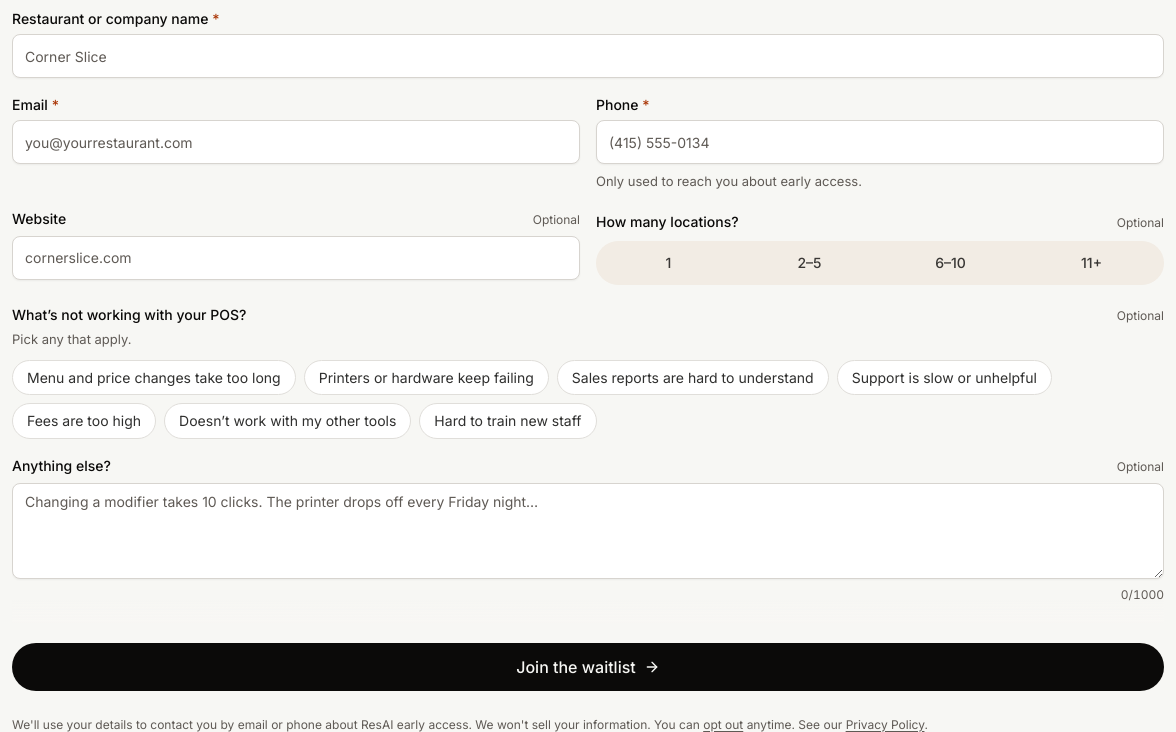
Test: WaitlistForm › shows inline errors and focuses the first invalid field without calling the API
Click the button "Join the waitlist".
click(588, 666)  # box [12,642,1164,690]
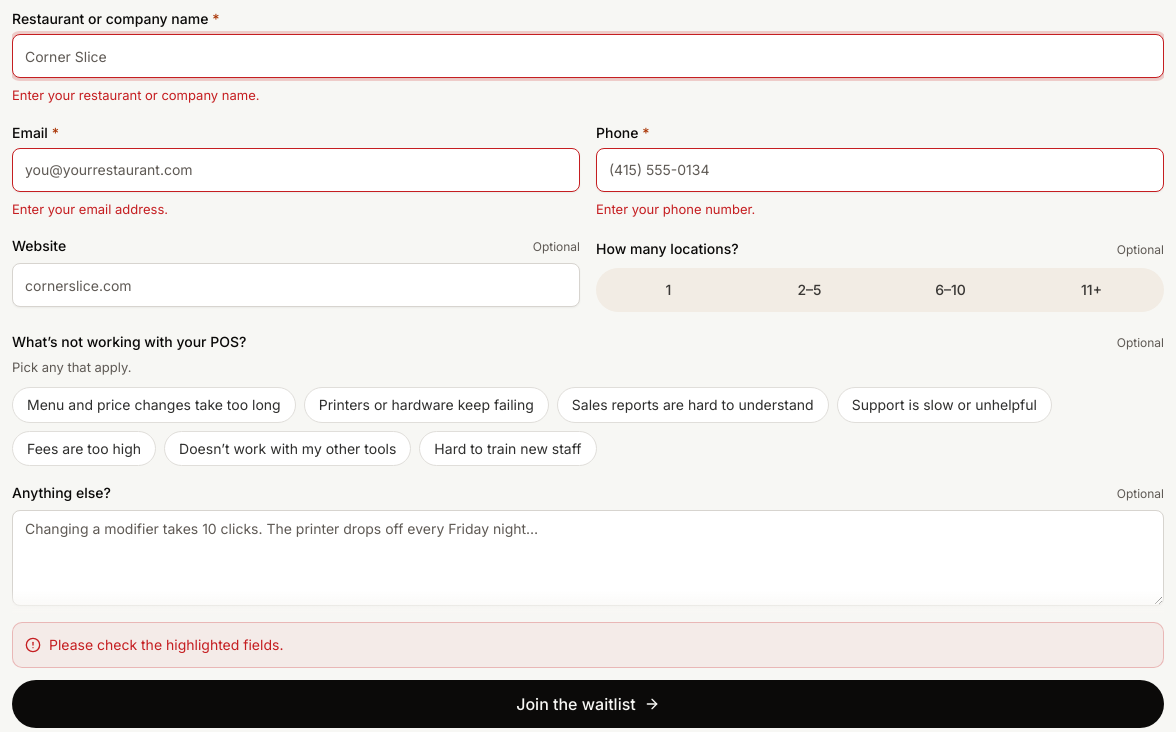
Expected: the text "Enter your restaurant or company name." is shown, [12,87,260,103]
Expected: the text "Enter your email address." is shown, [12,200,168,216]
Expected: the text "Enter your phone number." is shown, [596,200,755,216]
